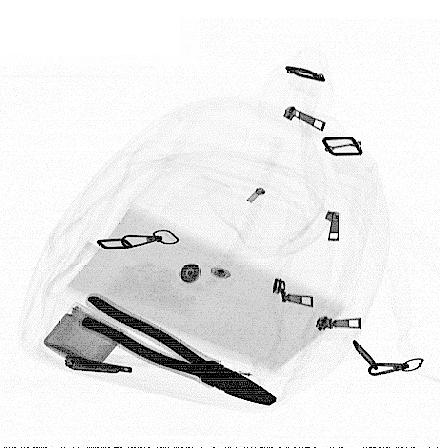Pliers: (78, 291, 278, 407)
